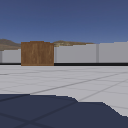obstacle: (21, 41, 54, 66)
